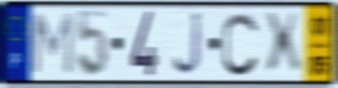4: (128, 9, 160, 80)
5: (73, 8, 110, 80)
C: (220, 10, 261, 79)
J: (170, 10, 204, 79)
M: (30, 11, 76, 77)
X: (261, 10, 305, 79)
